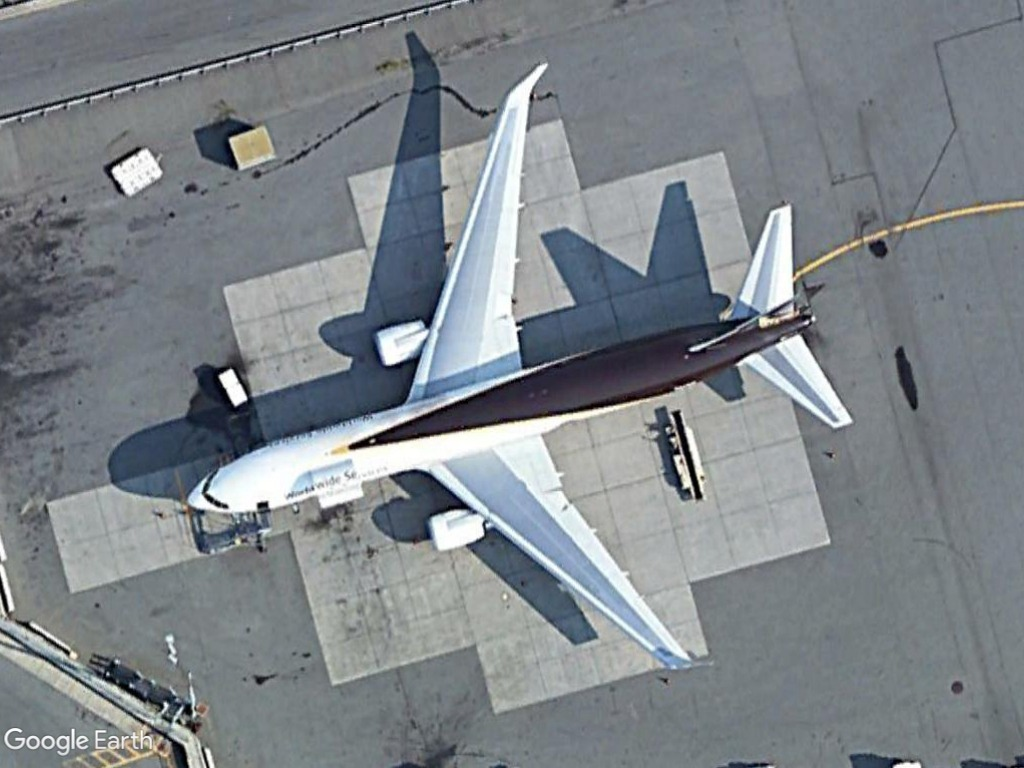airliner: (176, 54, 861, 686)
